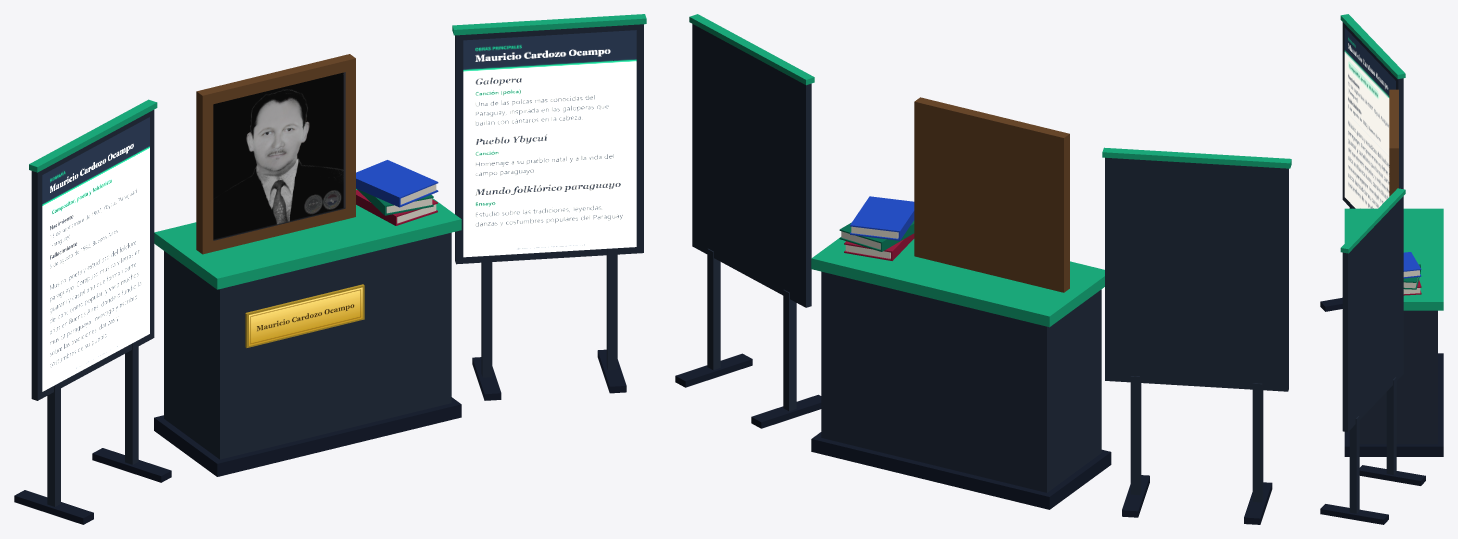
Rendered from mauricio-cardozo-ocampo.glb.
3 views of the same model, side by side, from view 1: azimuth 30°, elevation 25°; view 2: azimuth 150°, elevation 25°; view 3: azimuth 270°, elevation 25° (orthographic). The views are drawn at different scales.
Visible parts, largest first — view 1: pedestal (×7), obras, biografia, retrato, esmeralda (×3), marco, zocalo (×3), placa_nombre, tapa_azul, placa; view 2: pedestal (×7), marco, esmeralda (×3), zocalo (×3), tapa_azul; view 3: pedestal (×5), biografia, esmeralda (×3), zocalo (×4), marco, tapa_azul.
Part boxes in pixels (box(x1,y1,x2,y2)): pedestal (×7): box(31, 24, 643, 506); obras: box(463, 30, 636, 257); biografia: box(42, 117, 149, 391); retrato: box(213, 72, 345, 240); esmeralda (×3): box(29, 14, 646, 289); marco: box(196, 54, 355, 254); zocalo (×3): box(14, 397, 461, 524); placa_nombre: box(249, 287, 362, 345); tapa_azul: box(356, 160, 438, 198); placa: box(245, 284, 364, 347); pedestal (×7): box(692, 24, 1288, 502); marco: box(914, 97, 1069, 292); esmeralda (×3): box(689, 14, 1291, 327); zocalo (×3): box(675, 353, 1111, 509); tapa_azul: box(850, 196, 914, 232); pedestal (×5): box(1342, 22, 1437, 513); biografia: box(1344, 28, 1395, 208); esmeralda (×3): box(1340, 14, 1443, 310); zocalo (×4): box(1320, 297, 1443, 524); marco: box(1389, 89, 1398, 196); tapa_azul: box(1403, 252, 1421, 271).
Size of the model in its own units: 2.93 by 1.62 by 0.6481.
13 materials, 4 textured.
